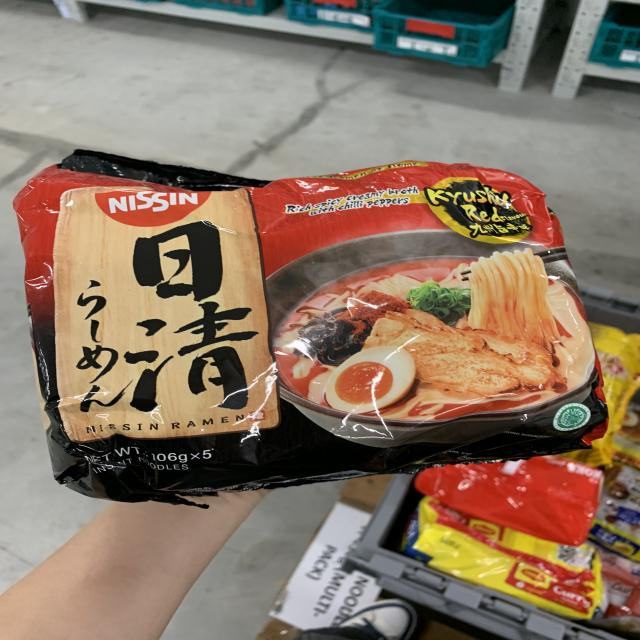object_name: (31, 179, 603, 448)
